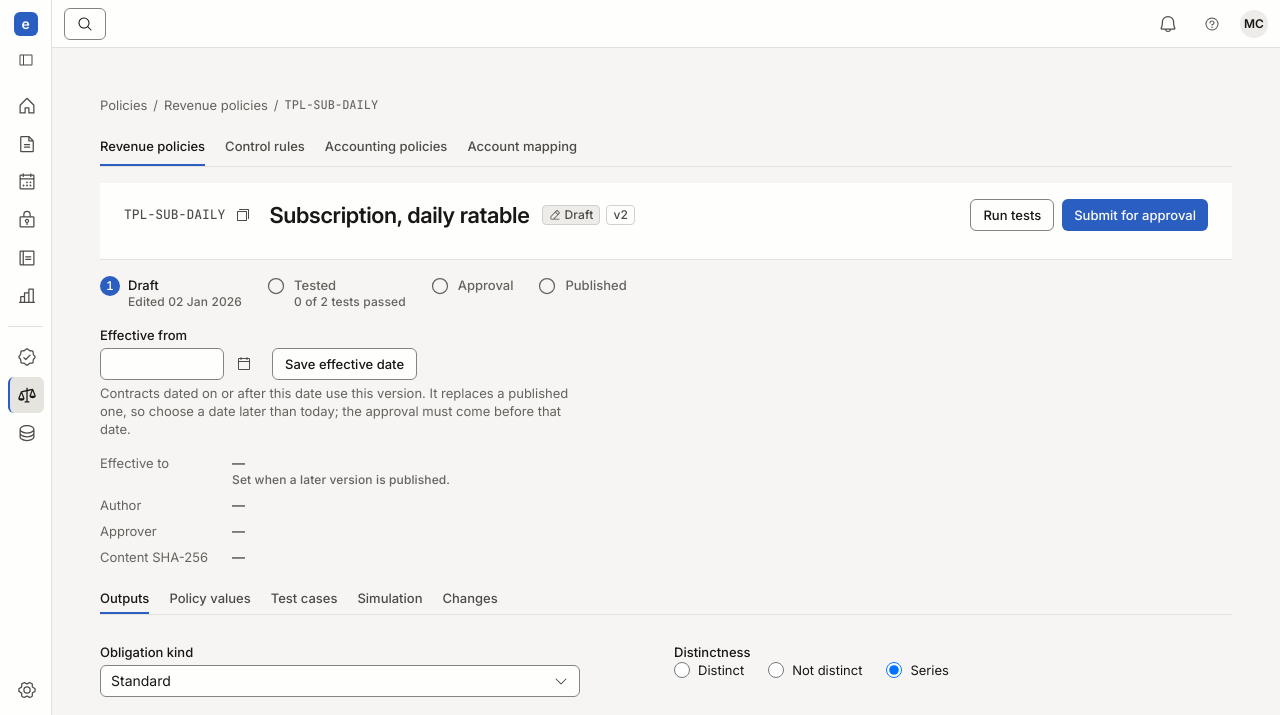
Test case: SF-13:template-version Meta and refused commands (SCREENS rev 1.31; PRD ERR-75) › a draft that replaces the published version asks for Effective from, and Save effective date sends 12:00:00Z of the date with If-Match
In the field labelled "Effective from": (162, 364) [100,348,224,380], type "2026-11-01"
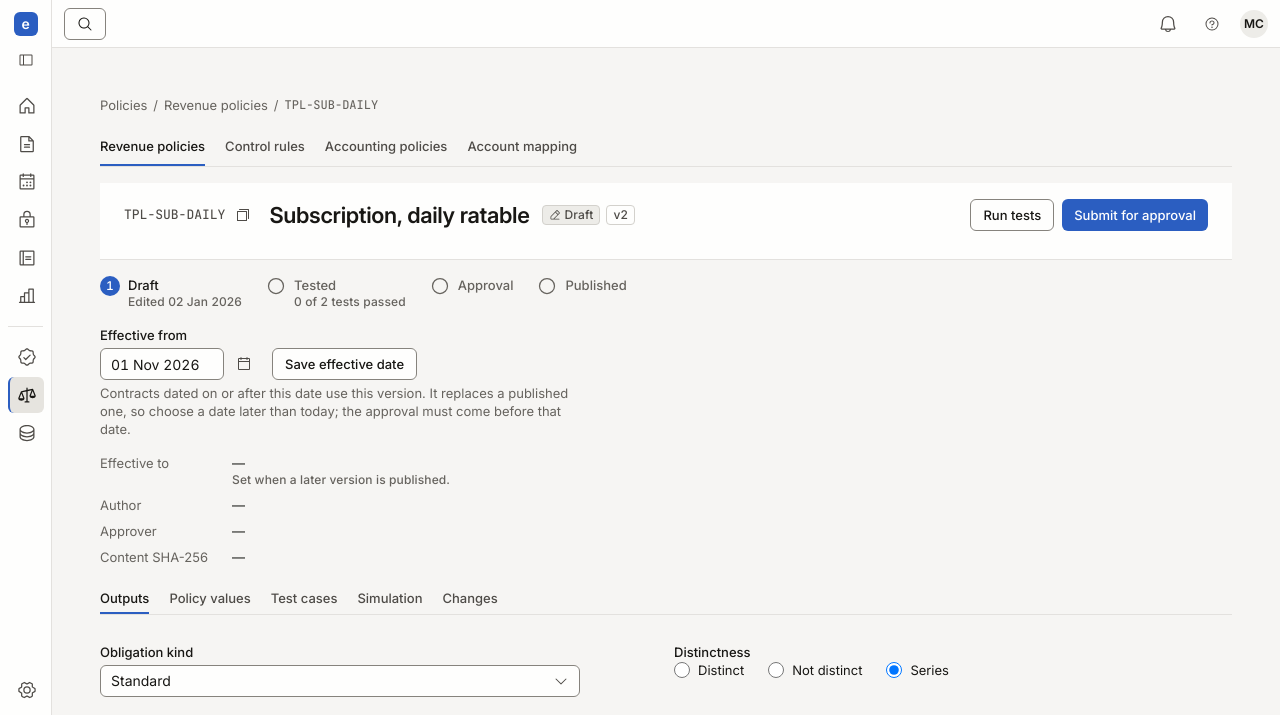
Click the button "Save effective date": (345, 364) [272,348,417,380]
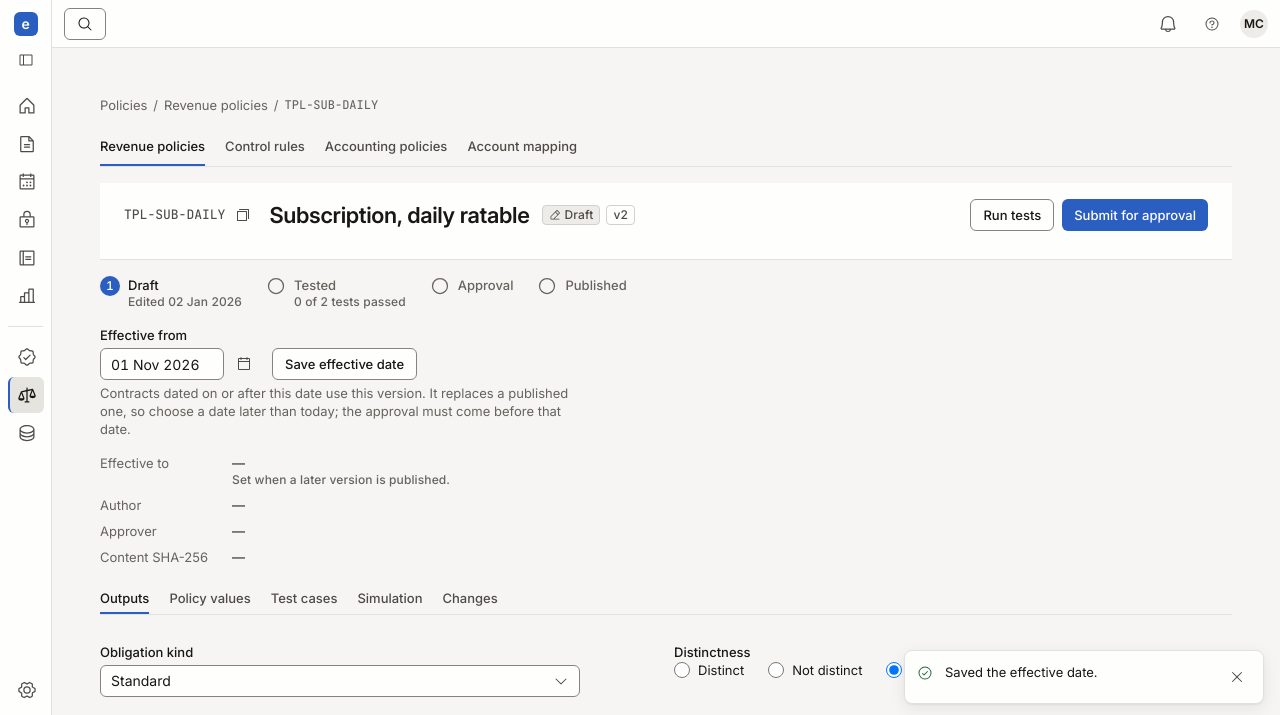
Now the field labelled "Effective from" holds "01 Nov 2026", box [100,348,224,380]
Now the text "Saved the effective date." is shown, box [945,663,1098,681]
